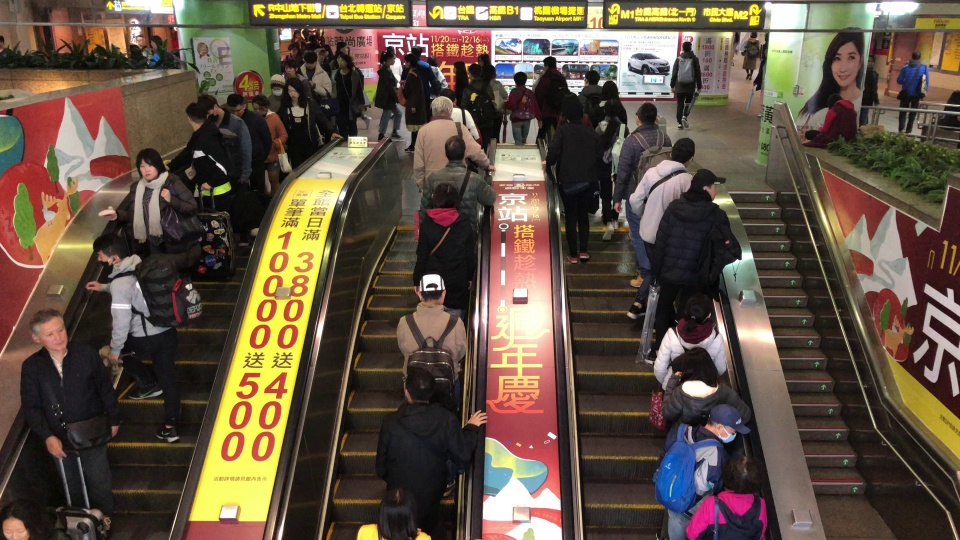person_head: (375, 486, 419, 540), (702, 405, 753, 443), (681, 166, 727, 203), (29, 308, 68, 351), (681, 348, 719, 387), (722, 456, 759, 493), (0, 501, 36, 539), (90, 235, 128, 269), (402, 368, 436, 404), (134, 148, 166, 181), (416, 274, 446, 304), (683, 296, 712, 323), (669, 137, 695, 167), (430, 183, 458, 209), (560, 91, 583, 122), (442, 136, 467, 162), (196, 94, 220, 121), (184, 102, 206, 131), (635, 102, 658, 128), (429, 96, 453, 119), (225, 93, 246, 117), (269, 73, 285, 96), (252, 95, 270, 115), (602, 80, 620, 100), (285, 78, 301, 100), (600, 100, 619, 117), (302, 51, 318, 69), (440, 87, 456, 105), (825, 93, 843, 109), (583, 69, 599, 86), (380, 52, 396, 66), (452, 60, 466, 76), (403, 53, 417, 68), (513, 72, 527, 87), (542, 56, 557, 70), (468, 63, 481, 79), (284, 62, 298, 76), (337, 55, 350, 69), (483, 65, 496, 79), (409, 45, 422, 58), (150, 34, 162, 48), (477, 53, 489, 66), (865, 54, 875, 69), (336, 42, 348, 54), (426, 56, 438, 67), (681, 41, 692, 52), (288, 44, 298, 56), (322, 44, 332, 56), (321, 64, 331, 75), (911, 49, 921, 60), (134, 35, 144, 45), (386, 45, 395, 56), (307, 35, 316, 44), (293, 30, 301, 38), (763, 48, 769, 58), (0, 36, 5, 47), (750, 31, 757, 38)
person_vbox: (84, 235, 206, 442), (20, 308, 116, 516), (374, 368, 481, 528), (625, 136, 696, 364), (652, 405, 760, 538), (655, 165, 742, 309), (611, 103, 672, 288), (541, 91, 600, 263), (408, 182, 480, 314), (394, 273, 467, 397), (420, 135, 497, 249), (412, 95, 497, 197), (162, 101, 235, 211), (124, 147, 198, 253), (659, 347, 752, 428), (683, 455, 771, 540), (652, 296, 727, 391), (196, 94, 252, 198), (224, 92, 272, 197), (282, 77, 340, 163), (594, 99, 628, 237), (251, 94, 293, 196), (356, 486, 433, 540), (799, 92, 859, 149), (667, 41, 705, 130), (499, 72, 543, 145), (893, 49, 930, 133), (399, 52, 429, 153), (533, 56, 569, 136), (331, 57, 365, 137), (373, 52, 402, 143), (401, 45, 437, 118), (468, 64, 498, 140), (438, 90, 480, 140), (483, 65, 508, 144), (600, 77, 631, 138), (745, 46, 769, 117), (577, 69, 605, 126), (858, 53, 880, 125), (382, 44, 404, 115), (299, 50, 332, 96), (424, 55, 449, 102), (283, 61, 311, 95), (268, 72, 287, 121), (741, 31, 760, 80), (452, 59, 469, 107), (149, 34, 170, 70), (320, 63, 339, 100), (133, 34, 152, 63), (283, 44, 303, 67), (304, 34, 321, 51), (321, 44, 334, 63), (291, 30, 305, 47)
